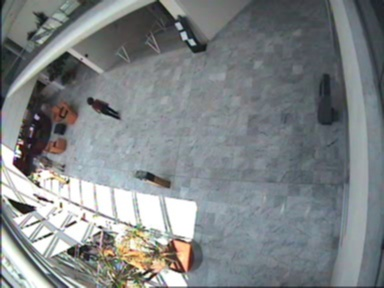person: (85, 96, 120, 120), (35, 154, 64, 172), (35, 169, 69, 183)
